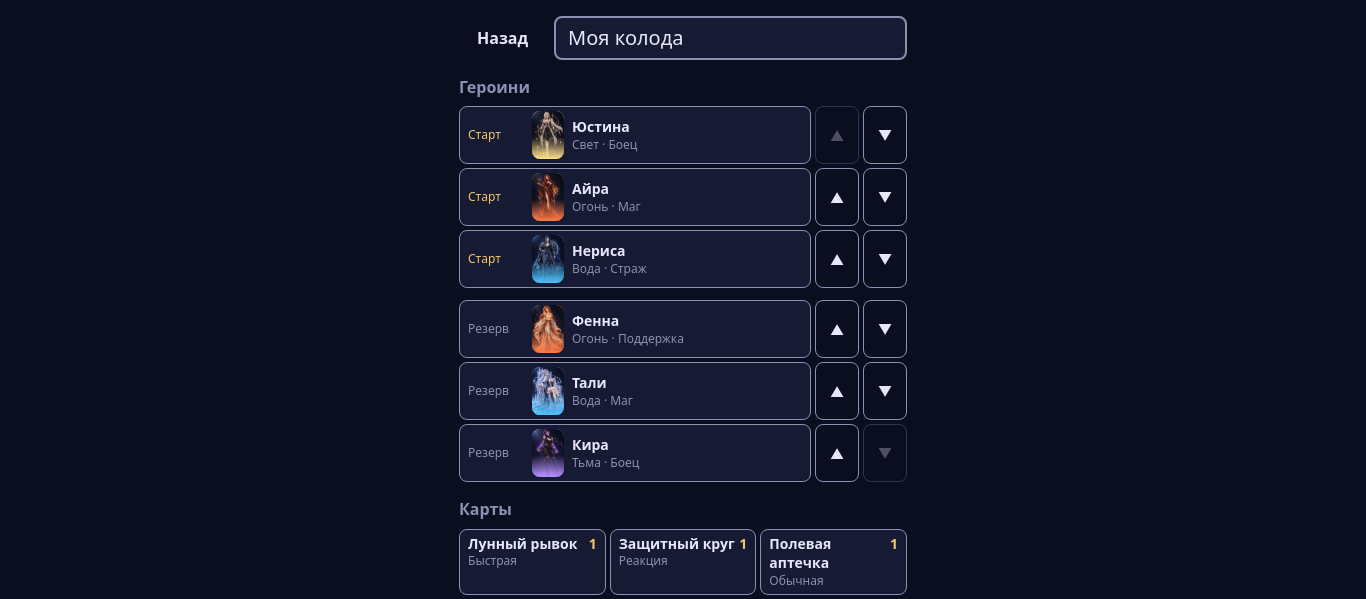
кнопка «Назад» платформы › в конструкторе с изменениями спрашивает про несохранённые изменения
The image size is (1366, 599).
Replace the text in the field with "Другое": (731, 38) [554,16,907,60]
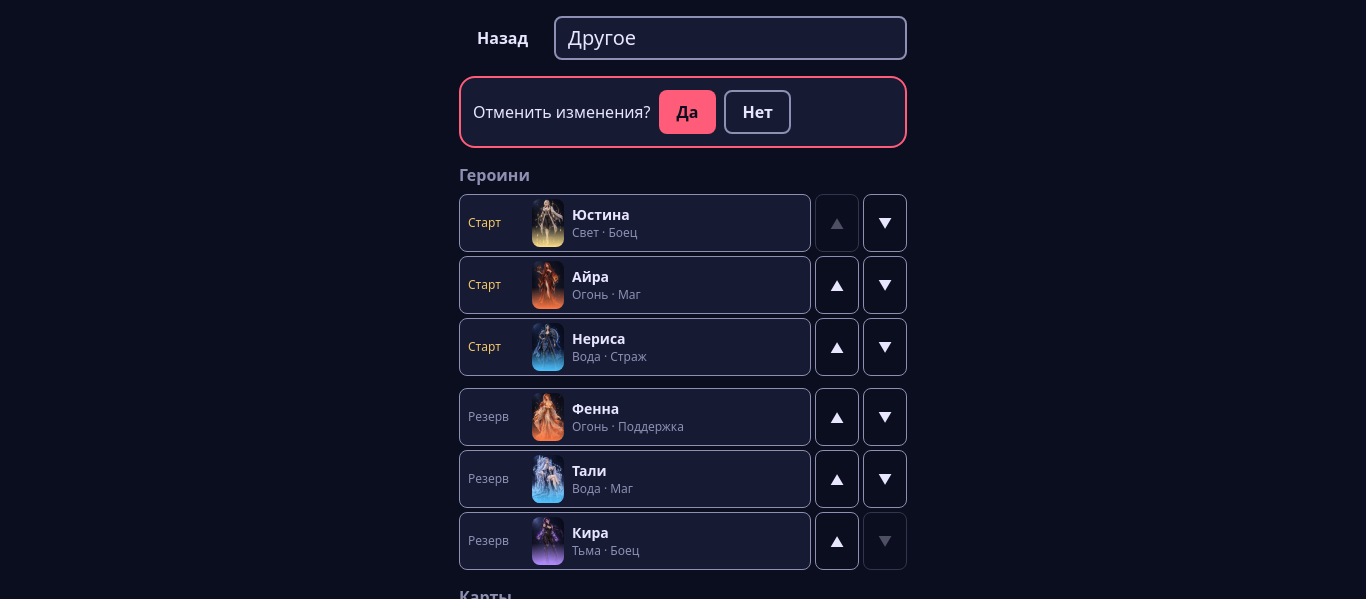
Result: the text "Отменить изменения?" is shown at [473,101,650,123]
